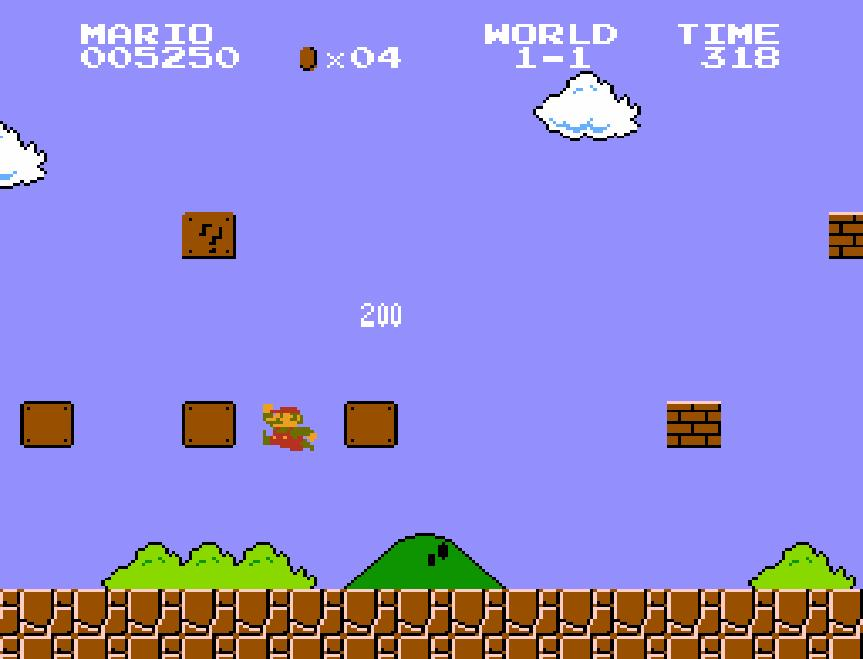little_mario: (260, 402, 318, 452)
